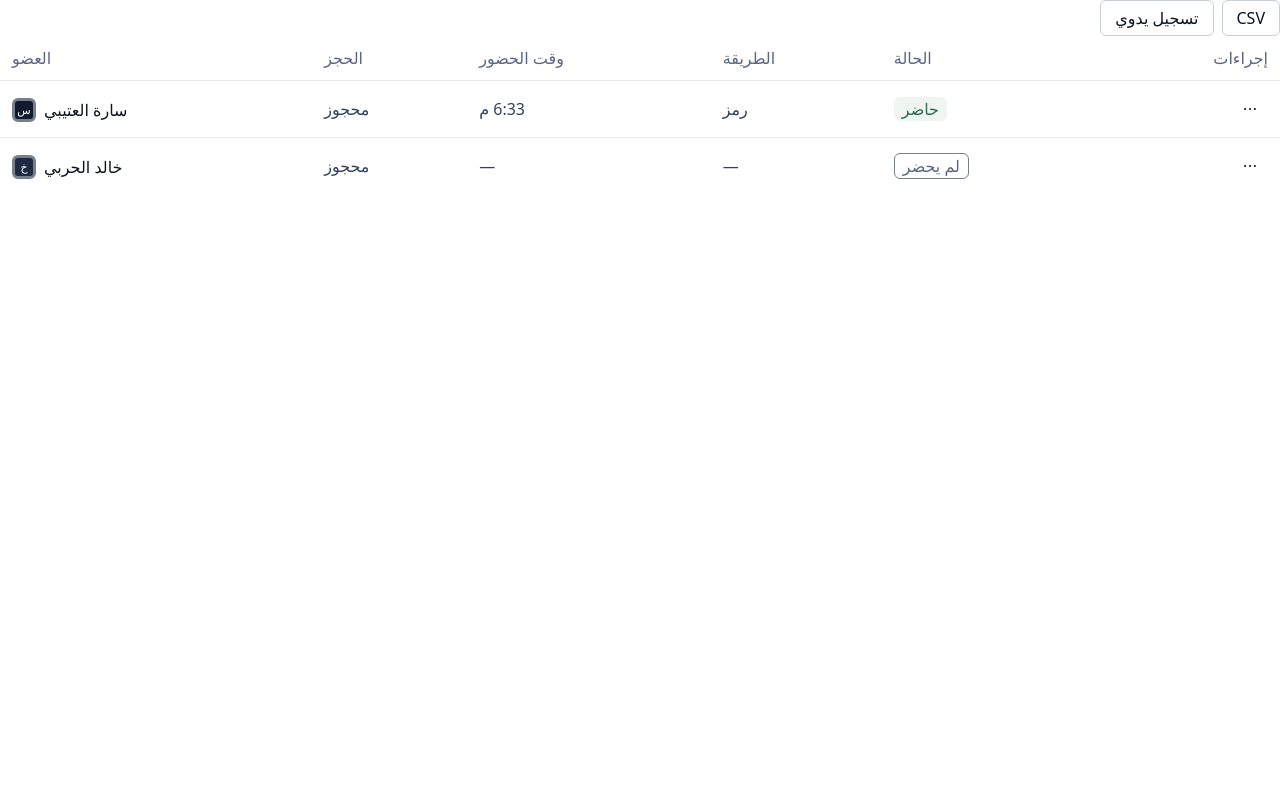
Scenario: the revoke's copy (REQ-PTS-015) › before completion: «won't earn», never «reversed»
The image size is (1280, 800).
Click the button named "إجراءات سارة العتيبي" at (1250, 109), box [1232, 91, 1268, 127]
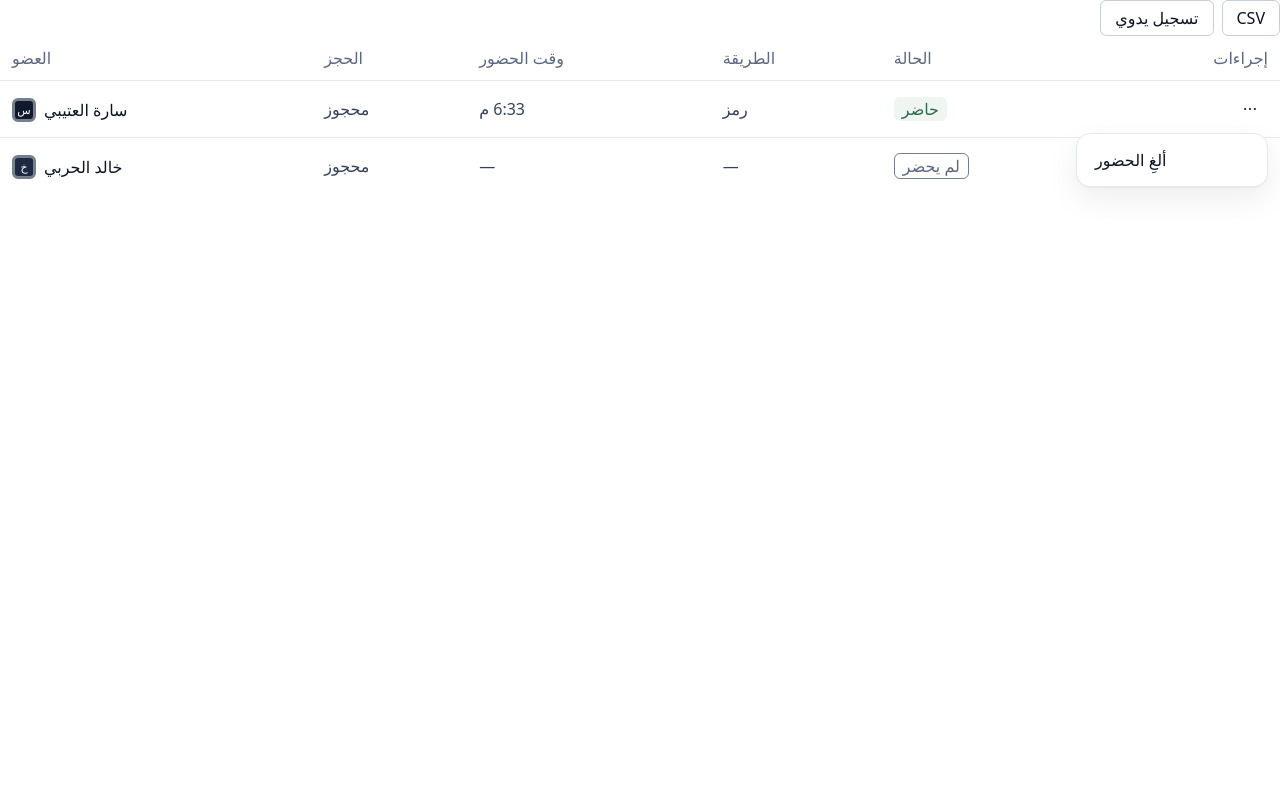
Click the menu item "ألغِ الحضور" at (1131, 160), box [1095, 149, 1166, 171]
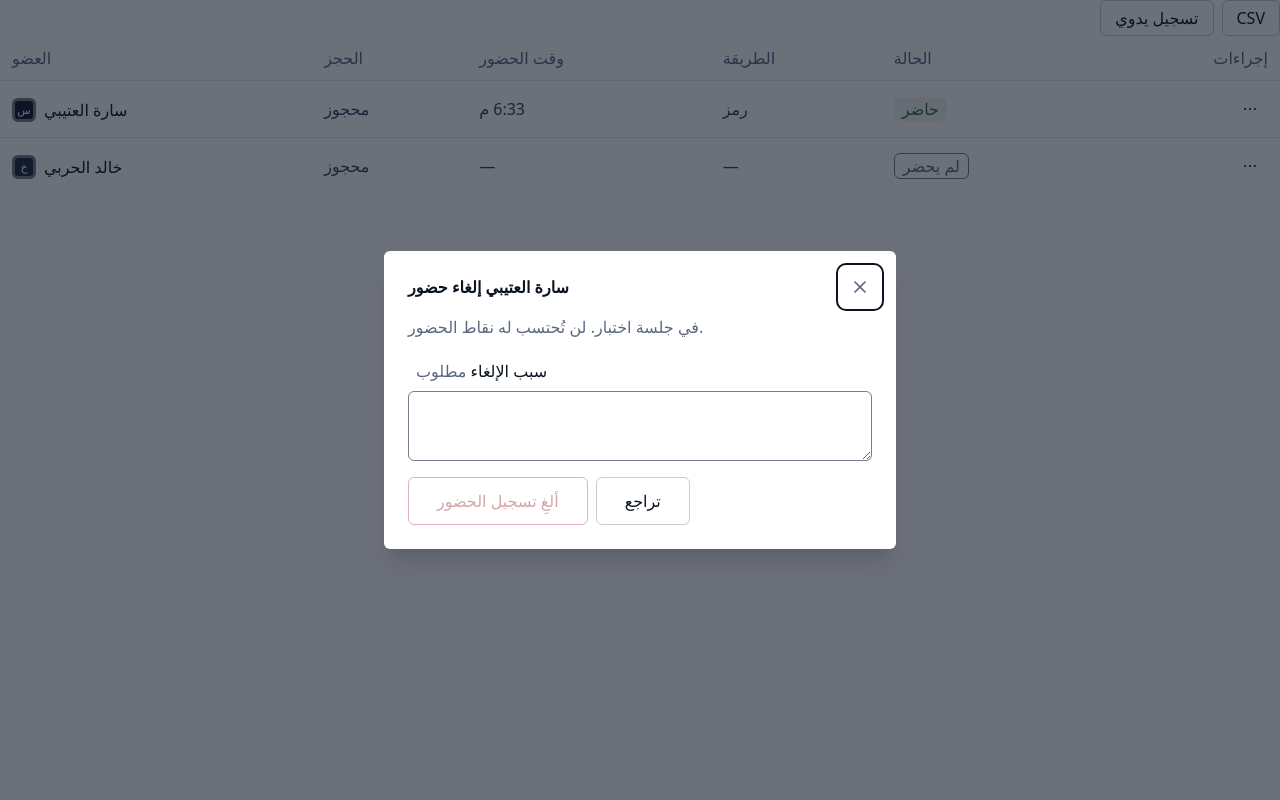
Check: the dialog does not show "تُعكس", box [384, 251, 896, 549]
Check: the dialog shows "لن تُحتسب له نقاط الحضور", box [408, 316, 703, 338]
